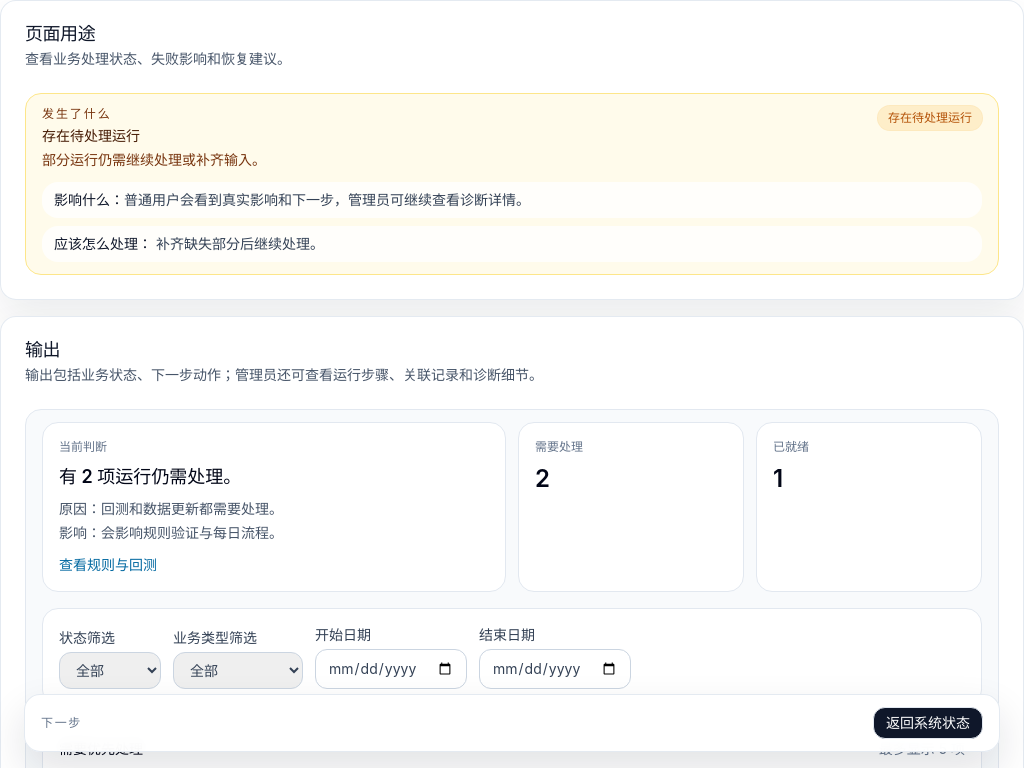
Test case: SystemPage › updates filters and loads more history on /system/runs
Select "失败" in the dropdown labelled "状态筛选" at (110, 670), box top-left (59, 652), bottom-right (161, 689)
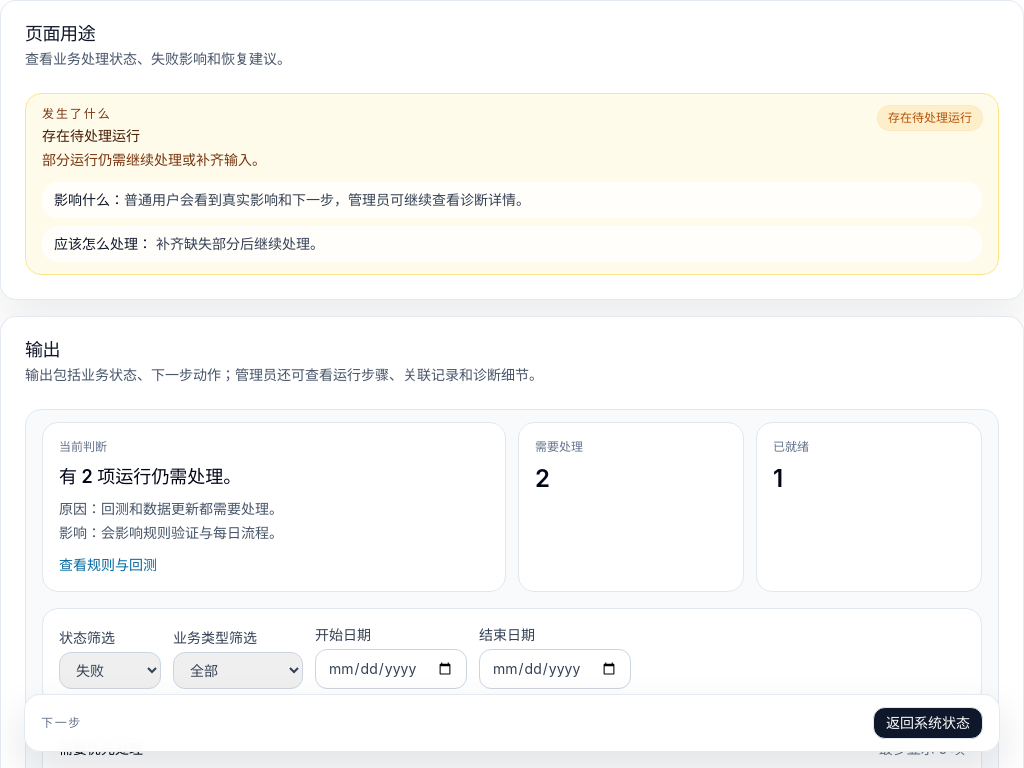
Select "回测" in the dropdown labelled "业务类型筛选" at (238, 670), box top-left (173, 652), bottom-right (303, 689)
(page scrolled)
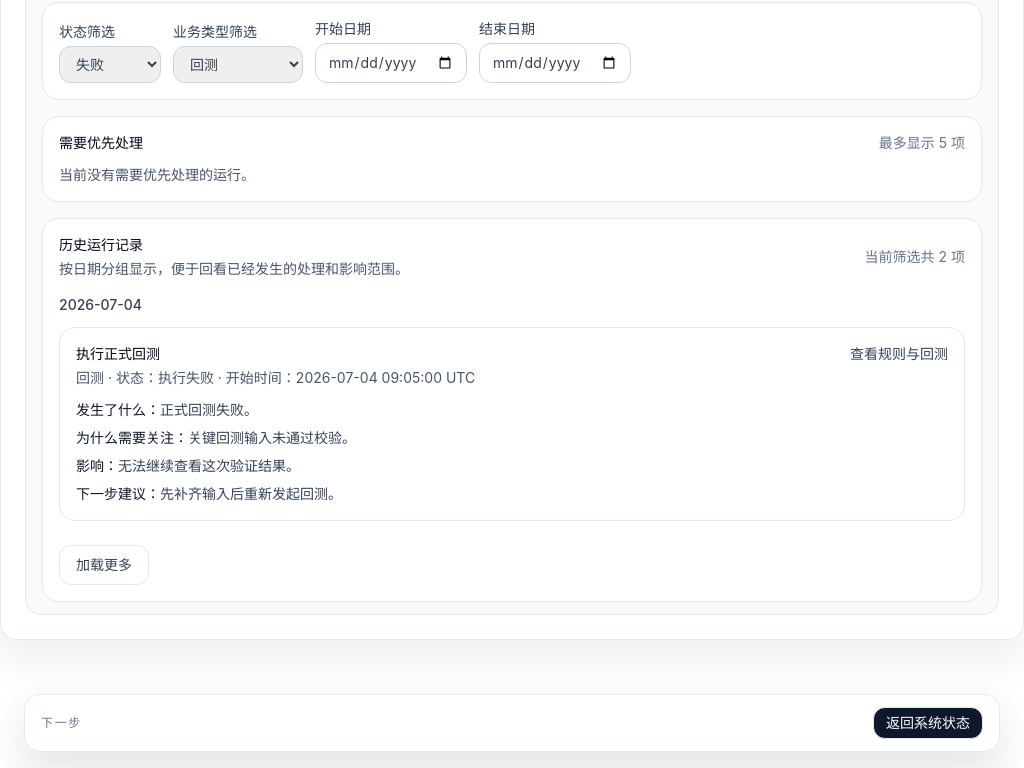
Result: the text "当前没有需要优先处理的运行。" is shown at top-left (59, 166), bottom-right (255, 183)
Click the button "加载更多" at (104, 565), box top-left (59, 545), bottom-right (149, 585)
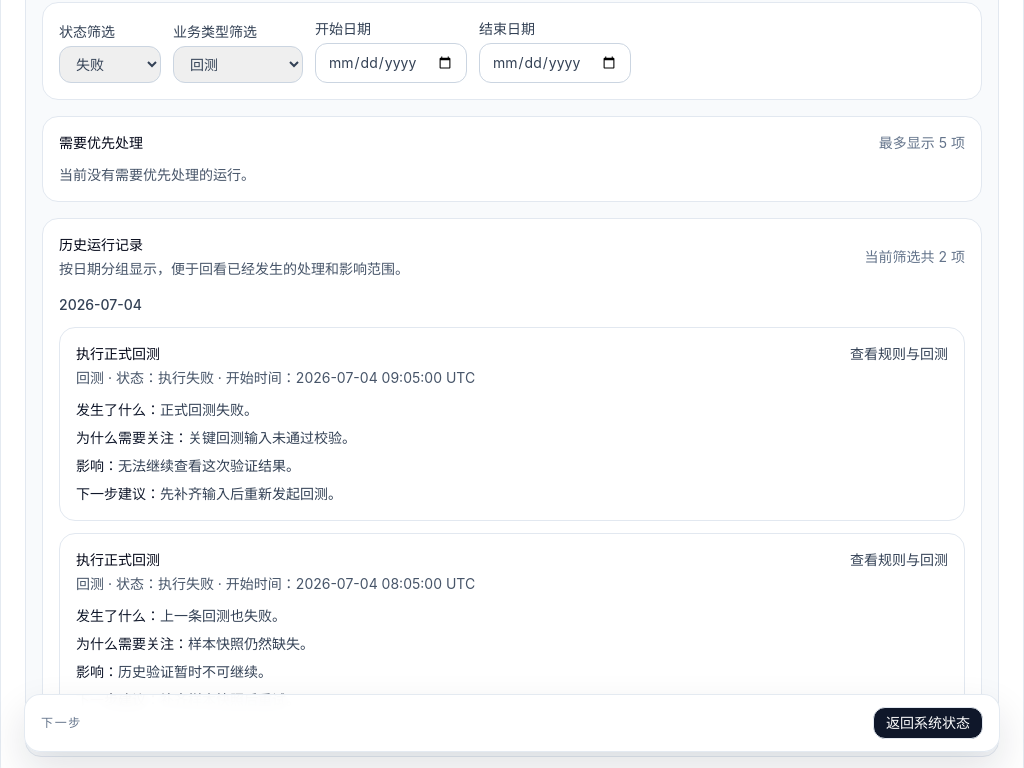
Result: the text "上一条回测也失败。" is shown at top-left (160, 607), bottom-right (286, 624)
